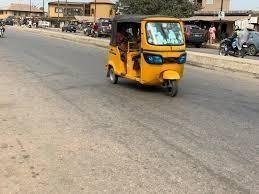keke: (107, 12, 188, 96)
